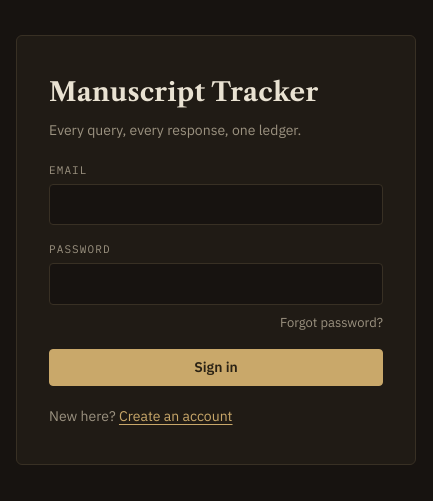
Test: LoginPage › falls back to the message when there is no field error
The image size is (433, 501).
Check: the heading "Manuscript Tracker" is shown, box x1=49 y1=76 x2=318 y2=108
Type "robert@example.test" into the field labelled "Email".
click(216, 205); type("robert@example.test")  # box x1=49 y1=184 x2=383 y2=225
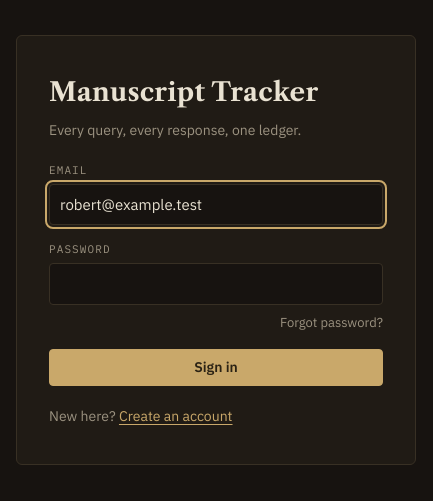
Type "password" into the password field labelled "Password".
click(216, 284); type("password")  # box x1=49 y1=263 x2=383 y2=305
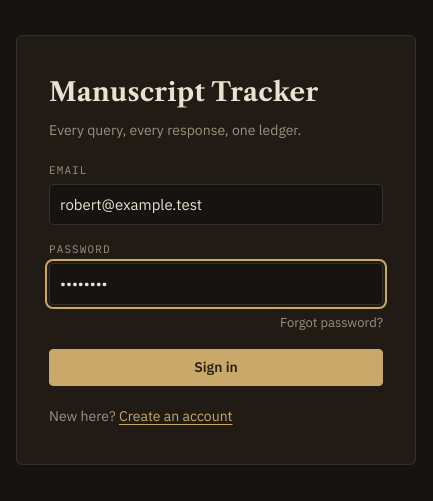
Click the button "Sign in".
click(216, 368)  # box x1=49 y1=349 x2=383 y2=386
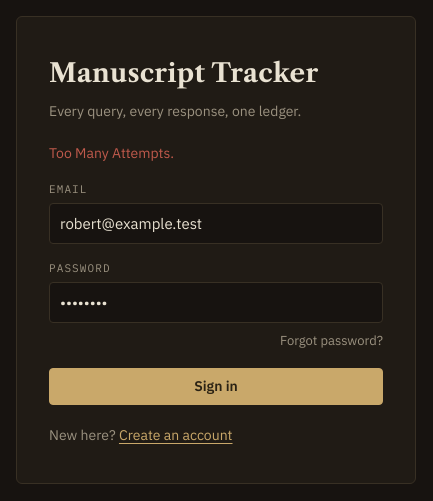
Check: the message reads "Too Many Attempts.", box x1=49 y1=144 x2=174 y2=162
